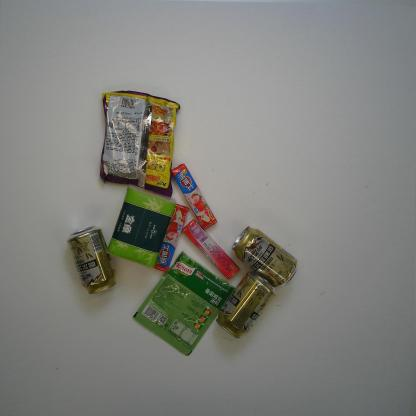Alcohol: (216, 271, 277, 340), (231, 226, 298, 288), (67, 225, 117, 295)
Candy: (182, 219, 240, 280), (171, 164, 217, 228), (154, 203, 190, 272)
Instant Noodles: (100, 90, 180, 198)
Seasoner: (131, 251, 235, 356)
Tissue: (106, 183, 178, 269)
